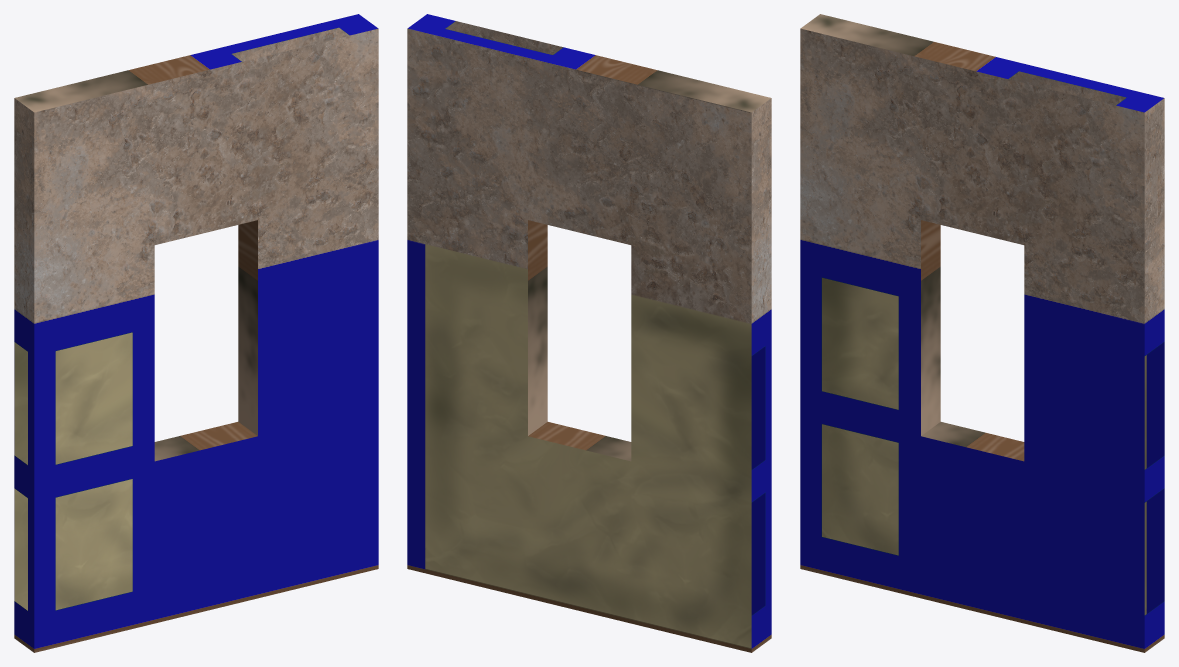
Rendered from windowWall_S.fbx.
3 renders of one model, left to right at view 1: azimuth 30°, elevation 25°; view 2: azimuth 150°, elevation 25°; view 3: azimuth 330°, elevation 25°, orthographic.
Visible parts, largest first — view 1: window wall_S; view 2: window wall_S; view 3: window wall_S.
Part boxes in pixels (x1,y1,x2,y2): window wall_S: [14, 14, 378, 652]; window wall_S: [407, 14, 771, 652]; window wall_S: [800, 14, 1164, 652].
Bounding box in the file's own units: 200 × 300 × 20.
